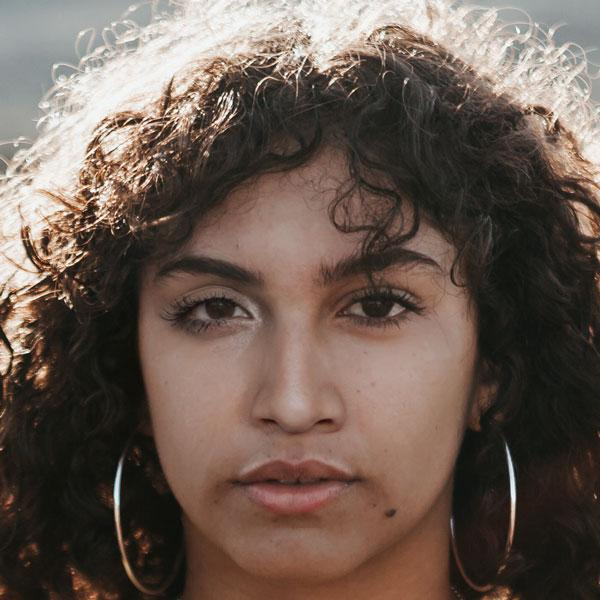Eyes: (317, 277, 435, 339), (159, 281, 261, 341)
